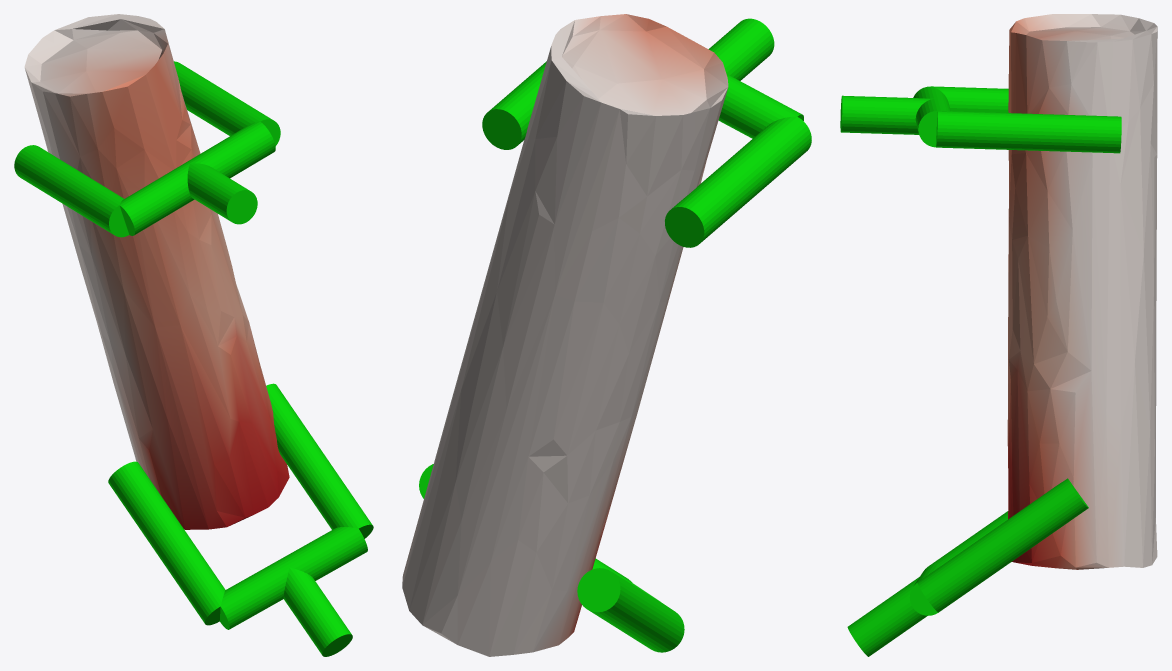
Rendered from round_001_trial_000.obj.
3 renders of one model, left to right at view 1: azimuth 30°, elevation 25°; view 2: azimuth 150°, elevation 25°; view 3: azimuth 270°, elevation 25°, orthographic. The views are drawn at different scales.
Parts seen in each view (by area): view 1: geometry_0, geometry_1, geometry_2; view 2: geometry_0, geometry_2, geometry_1; view 3: geometry_0, geometry_2, geometry_1.
Part boxes in pixels (box(x1,y1,x2,y2)): geometry_0: box(24, 14, 289, 529); geometry_1: box(108, 383, 373, 656); geometry_2: box(14, 61, 280, 237); geometry_0: box(402, 14, 728, 656); geometry_2: box(482, 18, 811, 247); geometry_1: box(419, 464, 684, 652); geometry_0: box(1007, 14, 1157, 569); geometry_2: box(840, 86, 1121, 153); geometry_1: box(847, 478, 1088, 656).
Bounding box in the file's own units: 0.0852 × 0.1737 × 0.086.
